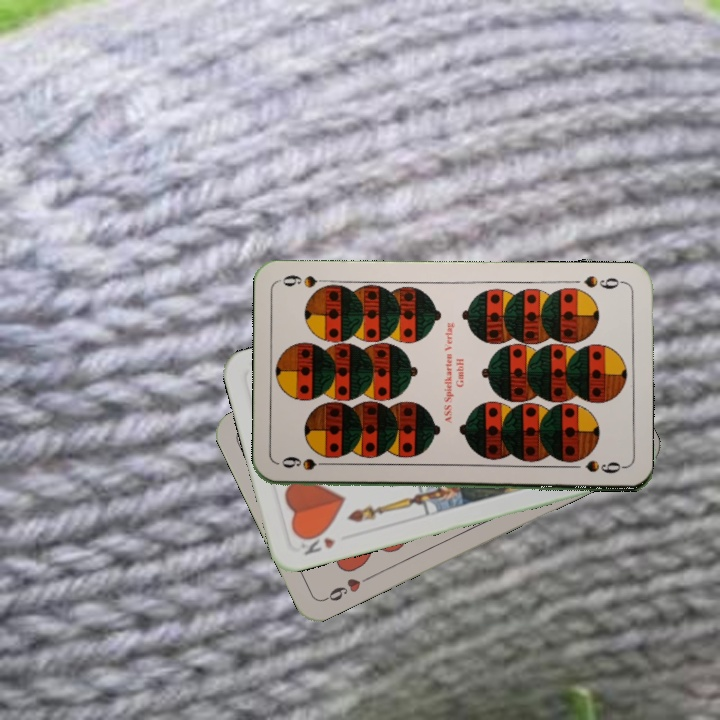H9: (320, 571, 375, 604)
HK: (295, 527, 338, 558)
S9: (277, 453, 336, 473), (580, 271, 628, 292)
